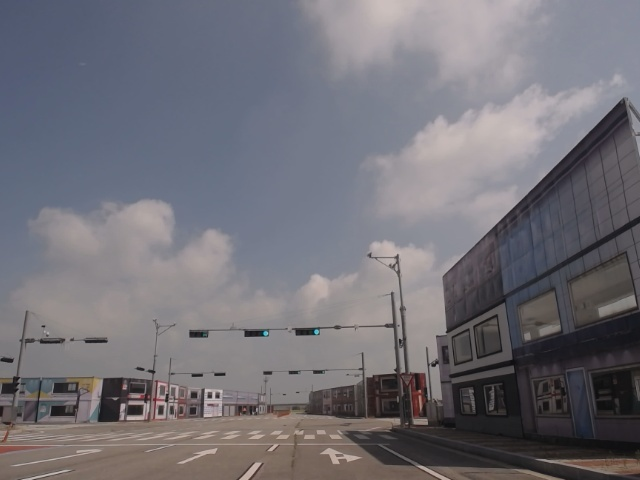straight_green_4: (294, 327, 320, 337), (245, 329, 269, 337)
